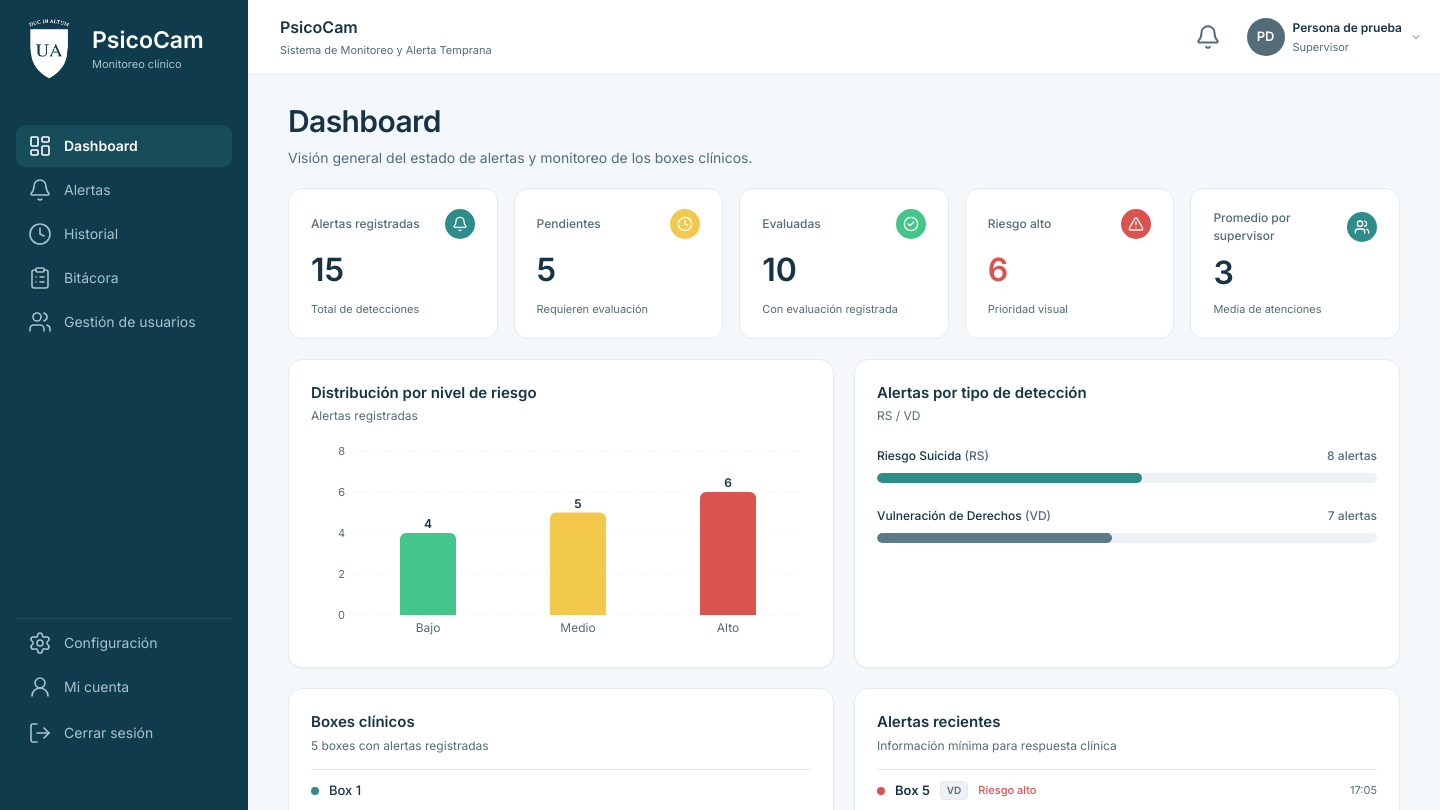
Test: Integración de SCRUM-27 › abre notificaciones, cierra con Escape y permite navegar desde el panel
Click the button named "Notificaciones". click: (1208, 37)
box: x1=1188 y1=19 x2=1226 y2=55
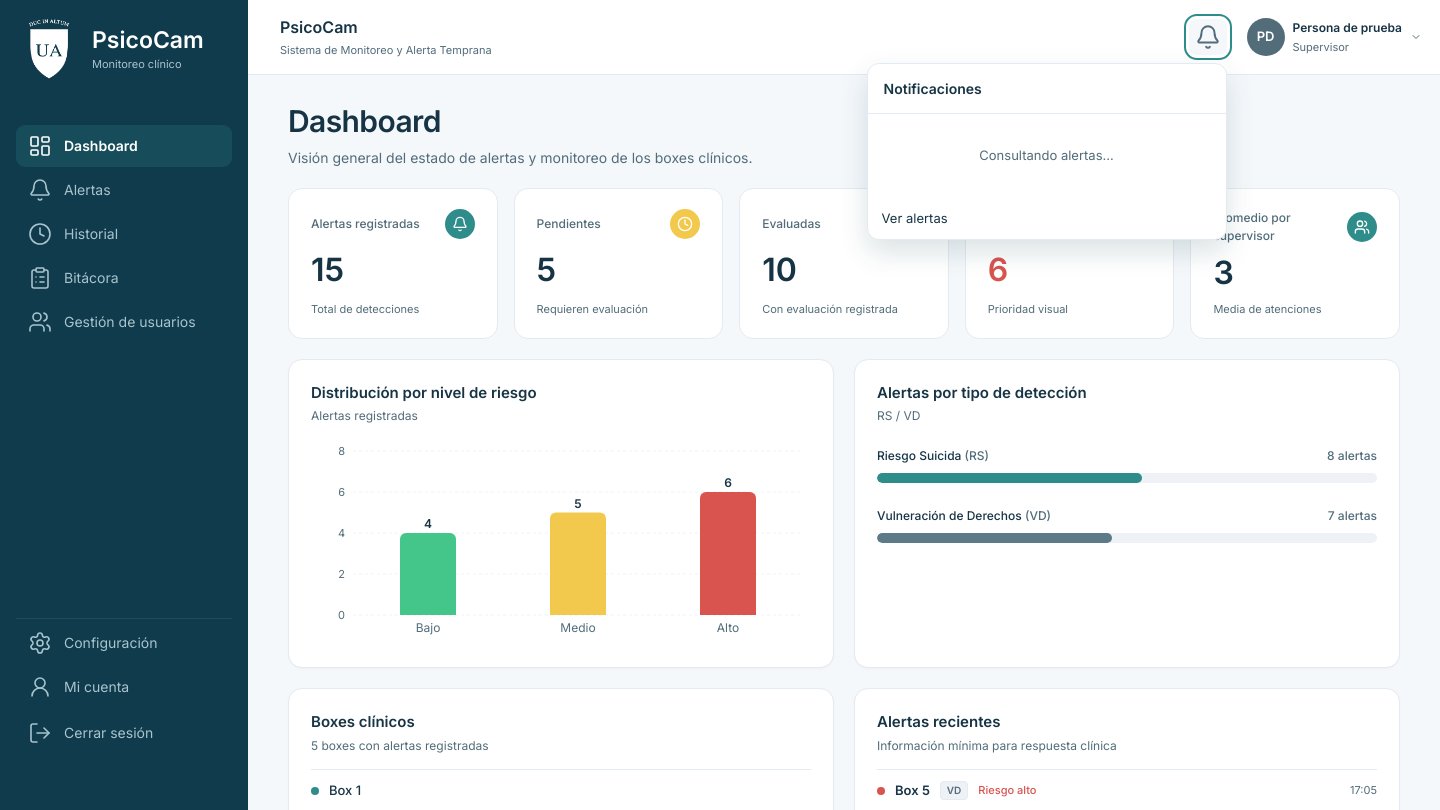
Press Escape
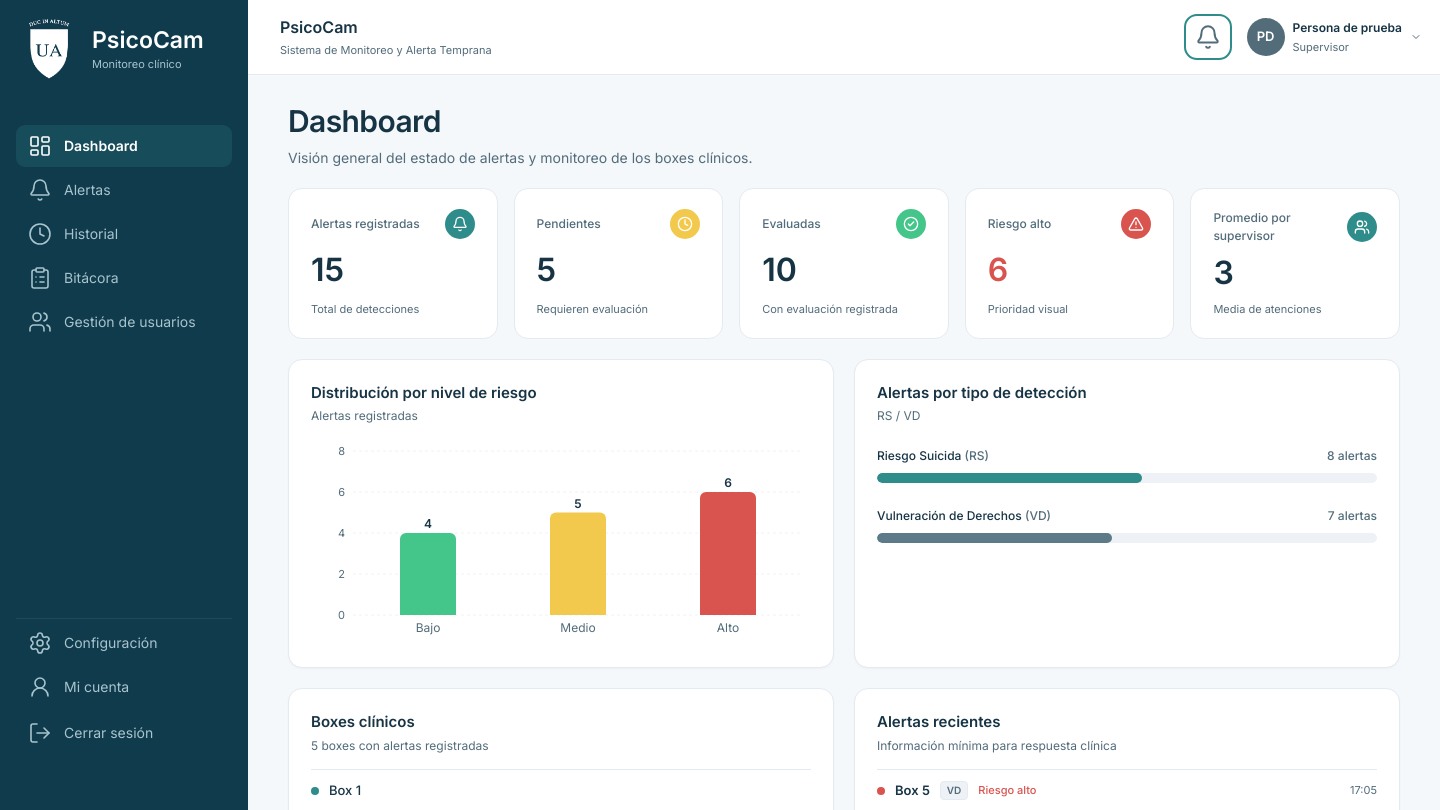
Click the button named "Notificaciones". click: (1208, 37)
box: x1=1188 y1=19 x2=1226 y2=55
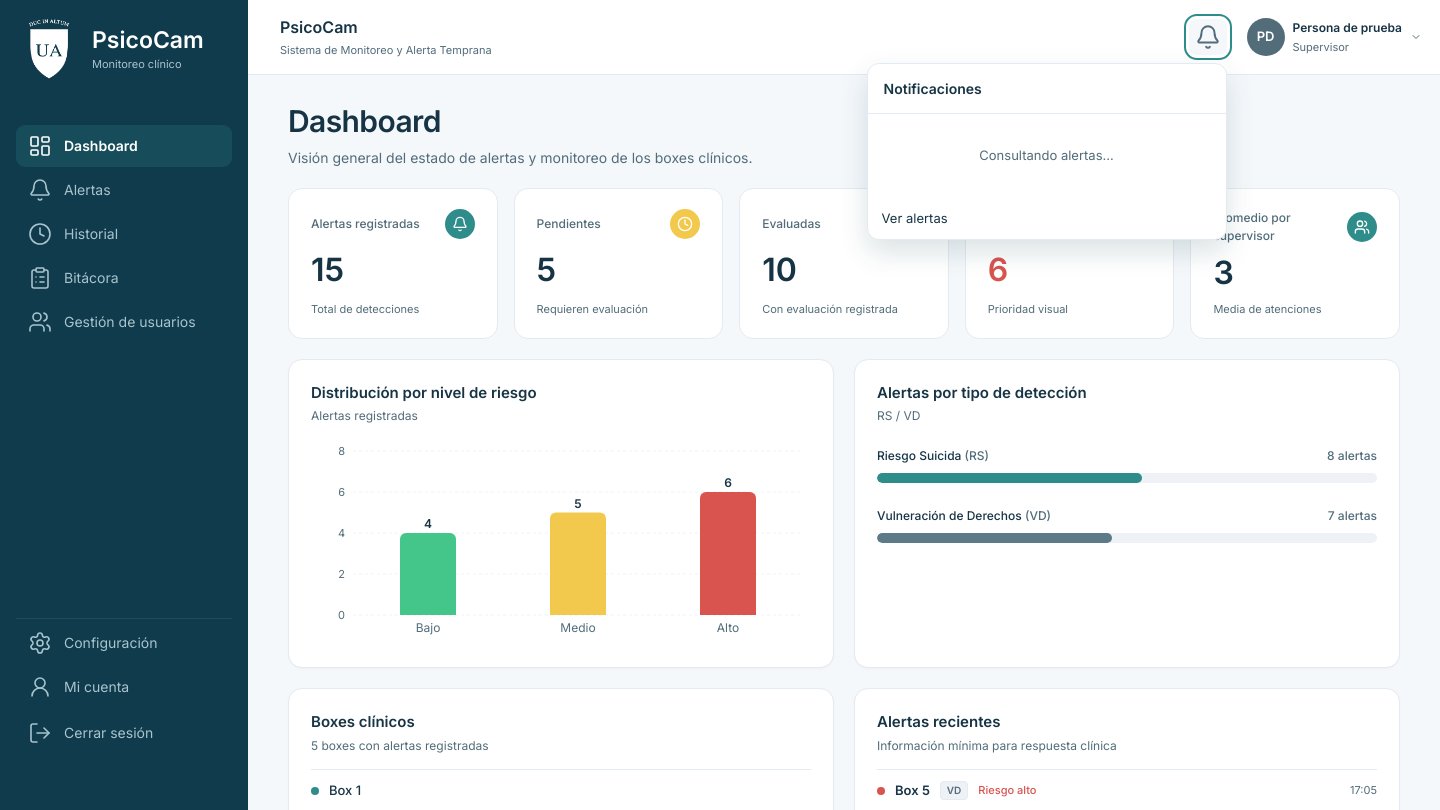
Click the link "Ver alertas". click: (914, 218)
box: x1=882 y1=210 x2=948 y2=226
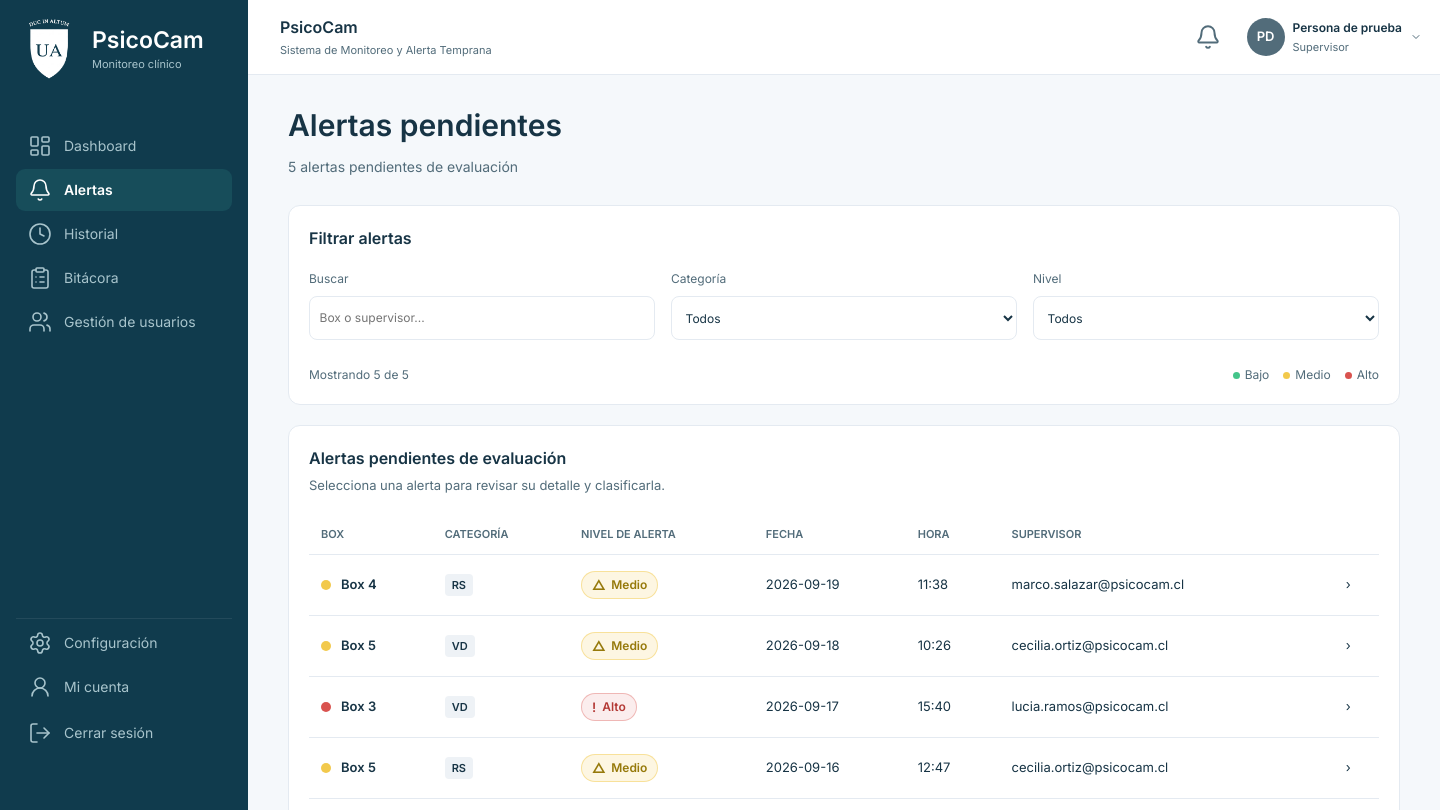
expect the heading "Alertas pendientes" is shown: met, box x1=288 y1=103 x2=562 y2=148
